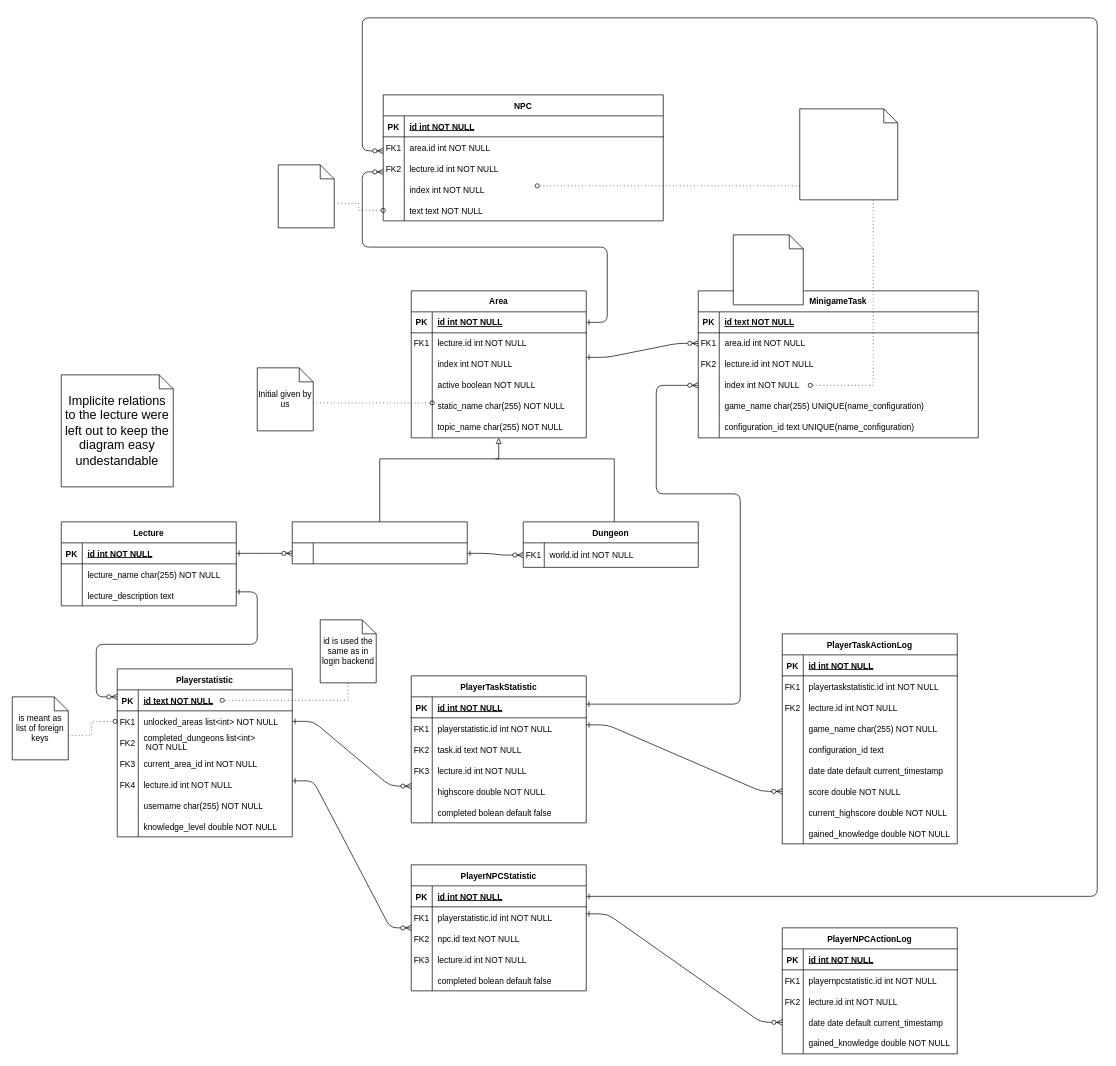
Some shapes in this 1116 by 1066 pixel diagram are drawn without their labels. Each missing label, with the centre of its shape:
"\n is delimiter for expressions" belongs at point (306, 196).
"id is UUID like java.util.UUID as specified in an ADR" belongs at point (768, 269).
"index is the relative number in the corresponding area" belongs at point (848, 154).
"World" belongs at point (379, 542).
